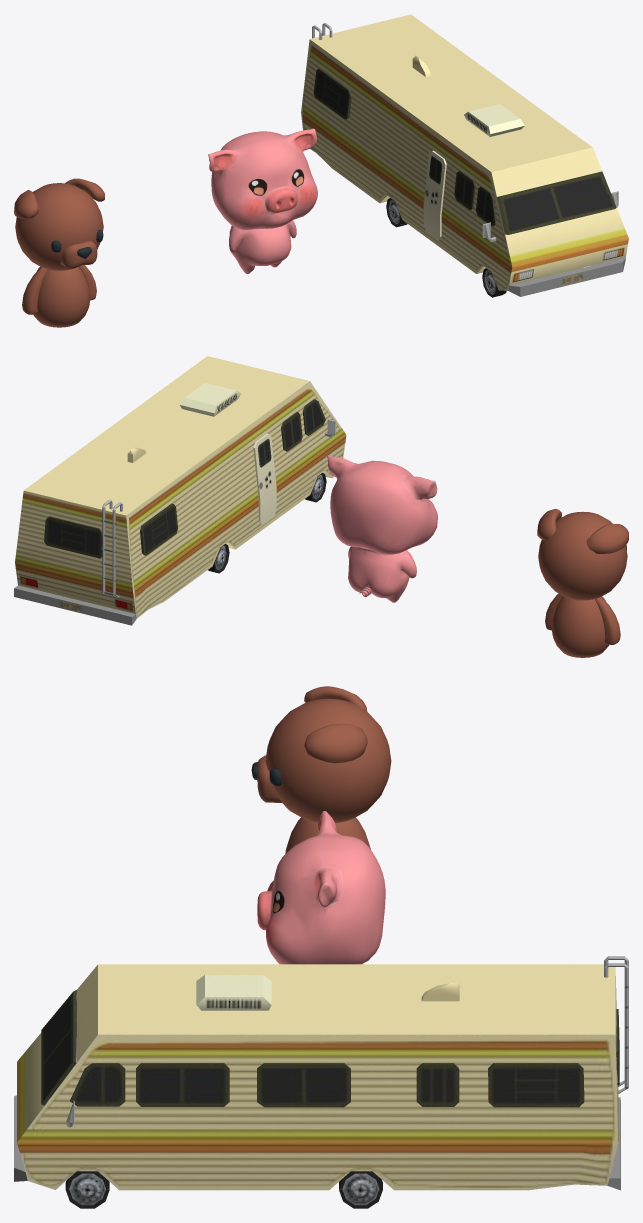
Rendered from characters.glb.
The picture shows the model from 3 angles, top to bottom: view 1: azimuth 30°, elevation 25°; view 2: azimuth 150°, elevation 25°; view 3: azimuth 270°, elevation 25°; orthographic projection. The views are drawn at different scales.
Parts seen in each view (by area): view 1: rv_mesh0, pig_mesh0, bear_head, bear_body, bear_arm_r; view 2: rv_mesh0, pig_mesh0, bear_head, bear_body, bear_arm_r; view 3: rv_mesh0, pig_mesh0, bear_head, bear_body.
Part boxes in pixels (x1=…): rv_mesh0: x1=301, y1=14, x2=628, y2=297; pig_mesh0: x1=208, y1=128, x2=317, y2=273; bear_head: x1=14, y1=178, x2=104, y2=270; bear_body: x1=33, y1=266, x2=90, y2=327; bear_arm_r: x1=22, y1=267, x2=47, y2=314; rv_mesh0: x1=14, y1=356, x2=346, y2=625; pig_mesh0: x1=327, y1=455, x2=437, y2=602; bear_head: x1=537, y1=509, x2=628, y2=600; bear_body: x1=551, y1=596, x2=609, y2=657; bear_arm_r: x1=595, y1=597, x2=620, y2=644; rv_mesh0: x1=14, y1=956, x2=628, y2=1208; pig_mesh0: x1=257, y1=811, x2=385, y2=964; bear_head: x1=251, y1=686, x2=391, y2=822; bear_body: x1=285, y1=817, x2=370, y2=853.
Size of the model in its own units: 4.08 by 1 by 2.98.
Materials: 4 (2 with a texture image).
